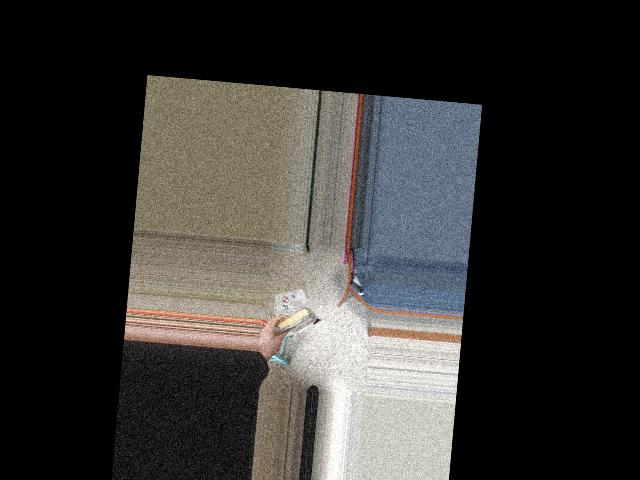cheese: (261, 301, 322, 343)
